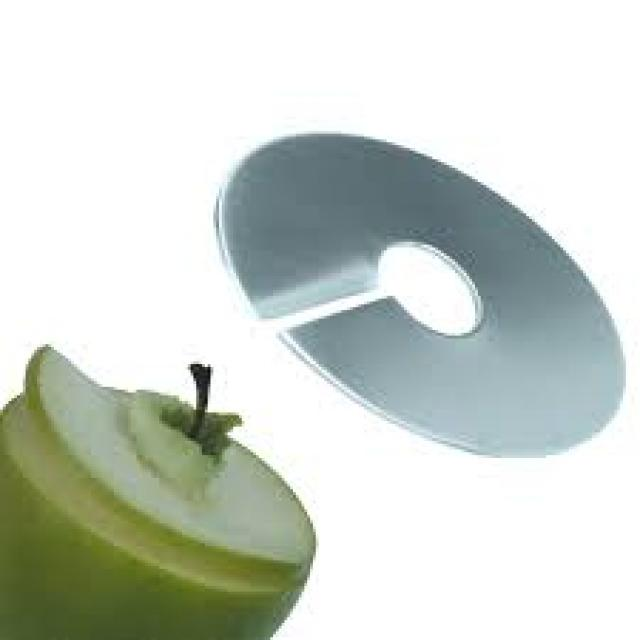Apple: (1, 384, 322, 640), (25, 342, 320, 584)
